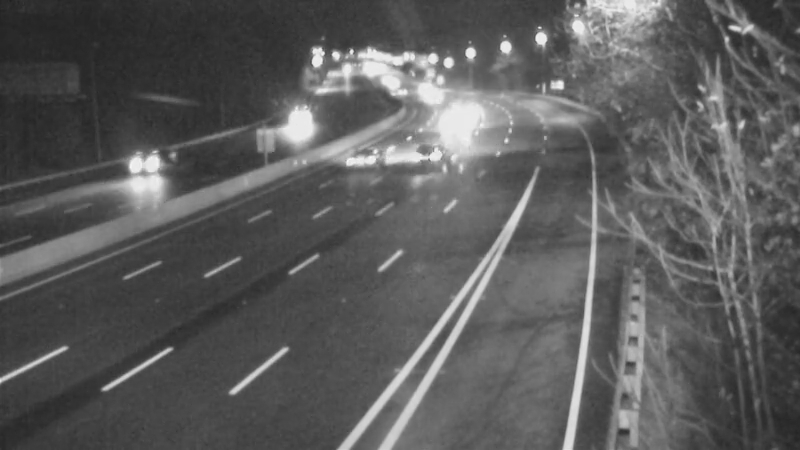vehicle: (325, 119, 405, 199), (108, 125, 188, 205), (397, 65, 447, 115), (376, 71, 426, 121), (411, 72, 461, 122), (444, 84, 494, 134), (431, 101, 481, 151), (408, 124, 458, 174), (266, 97, 316, 147)
